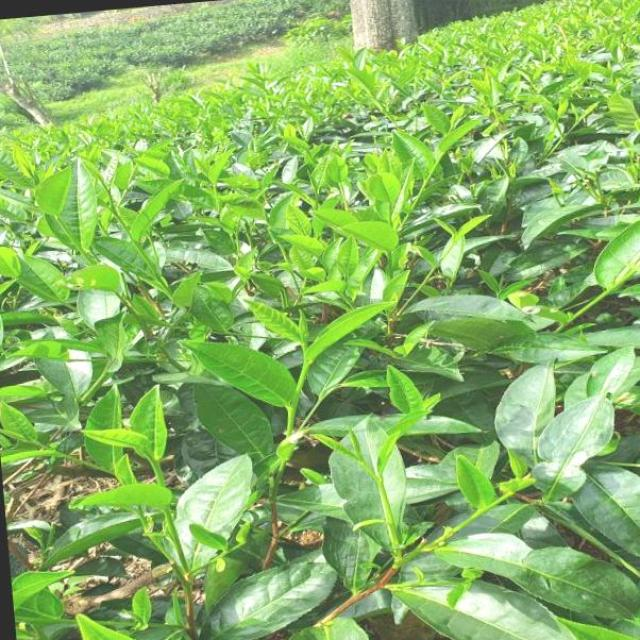Stem: (376, 478, 382, 485), (304, 360, 310, 367), (154, 463, 160, 470)
